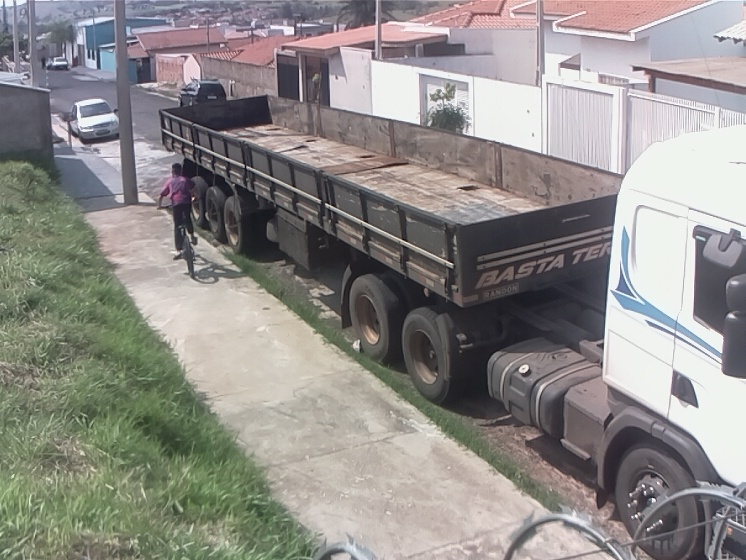person: (153, 162, 199, 265)
